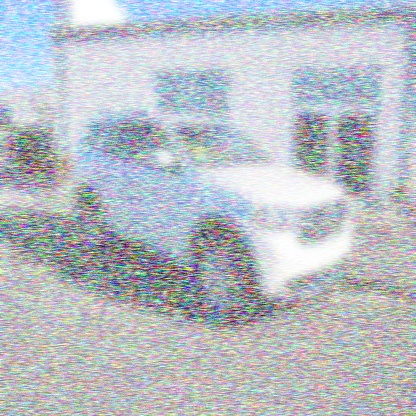Vehicle: (70, 99, 355, 333)
